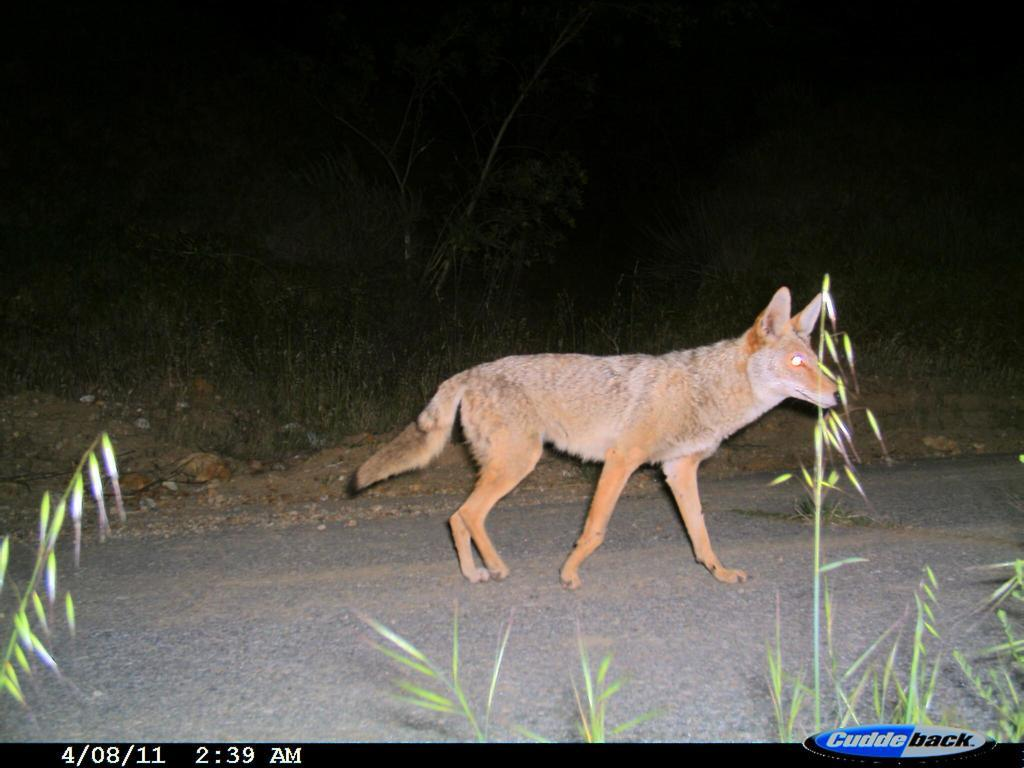coyote: (349, 278, 848, 594)
